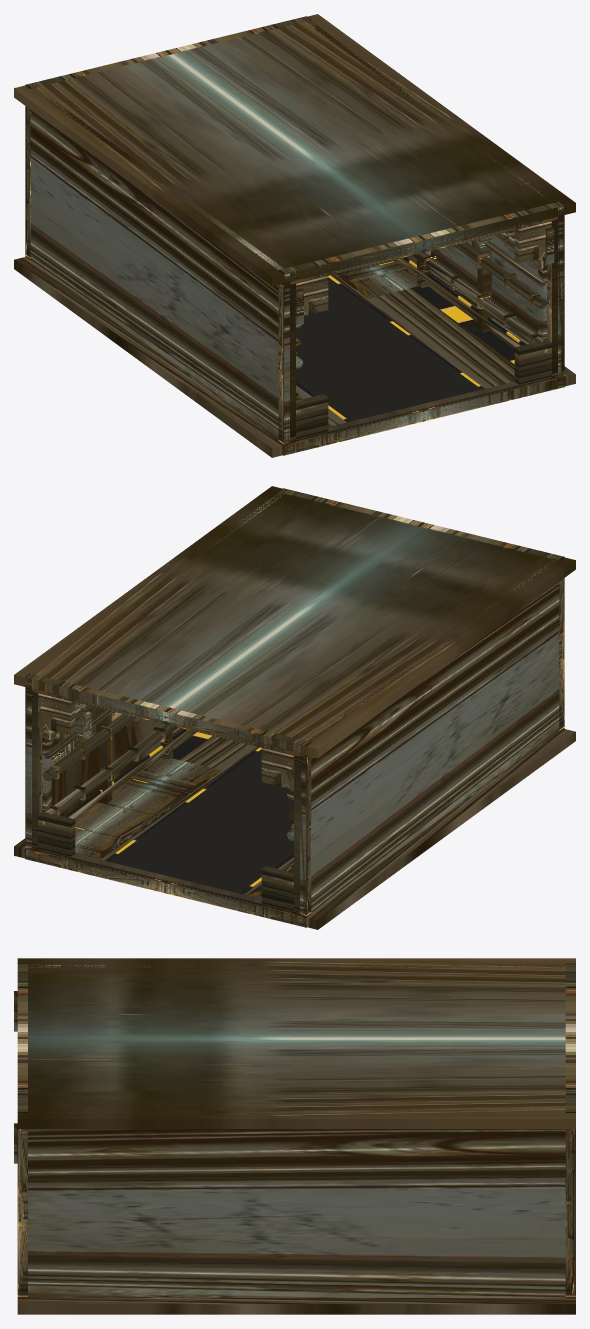
Rendered from hangar_ic_koridor_lonca.glb.
3 renders of one model, top to bottom at view 1: azimuth 30°, elevation 25°; view 2: azimuth 150°, elevation 25°; view 3: azimuth 270°, elevation 25°, orthographic. The views are drawn at different scales.
Parts seen in each view (by area): view 1: LOD0_koridor; view 2: LOD0_koridor; view 3: LOD0_koridor.
Part boxes in pixels (x1,y1,x2,y2): LOD0_koridor: (14, 14, 575, 457); LOD0_koridor: (14, 486, 575, 929); LOD0_koridor: (14, 958, 575, 1314).
Size of the model in its own units: 10.2 by 5.84 by 15.1.
1 material, 1 textured.
